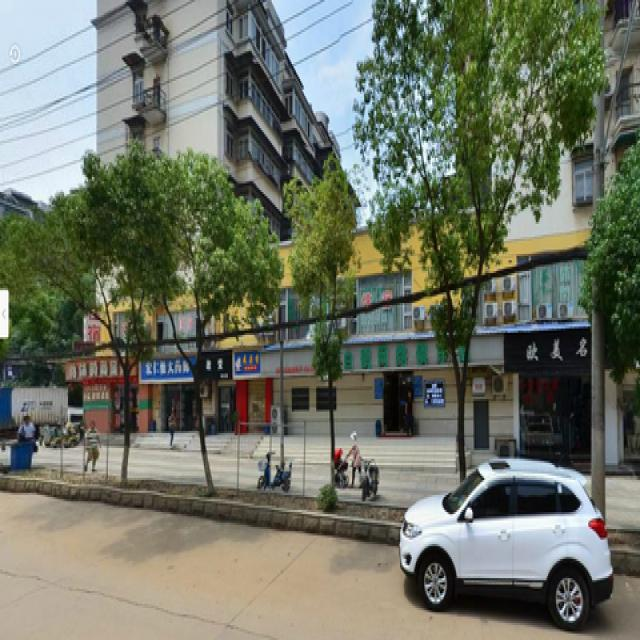cinn: (386, 17, 554, 450), (137, 164, 255, 486), (68, 186, 143, 457), (290, 179, 346, 478)
